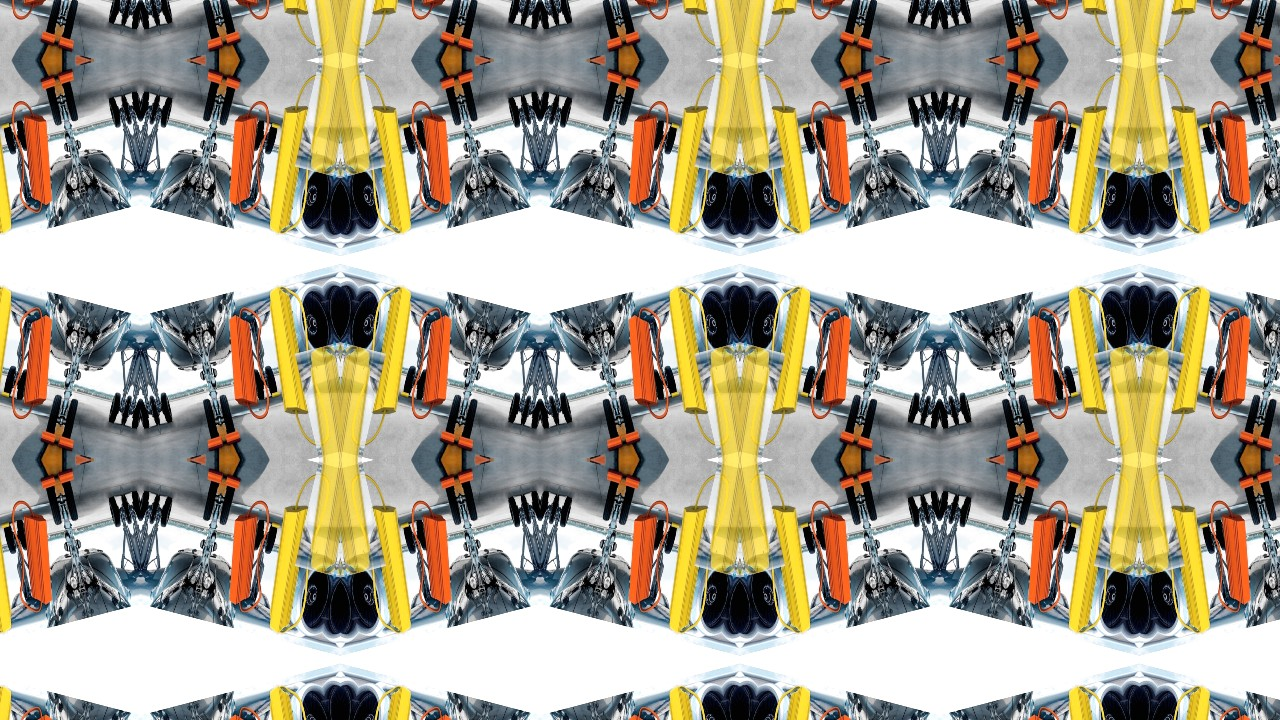chock: (257, 97, 317, 236), (363, 97, 423, 236), (657, 97, 717, 236), (763, 97, 823, 236), (1057, 97, 1117, 236), (1163, 97, 1223, 236), (257, 284, 317, 423), (363, 284, 423, 423), (657, 284, 717, 423), (763, 284, 823, 423), (1057, 284, 1117, 423), (1163, 284, 1223, 423), (257, 497, 317, 636), (363, 497, 423, 636), (657, 497, 717, 636), (763, 497, 823, 636), (1057, 497, 1117, 636), (1163, 497, 1223, 636), (12, 106, 65, 209), (215, 106, 268, 209), (412, 106, 465, 209), (615, 106, 668, 209), (812, 106, 865, 209), (1015, 106, 1068, 209), (1212, 106, 1265, 209), (12, 311, 65, 414), (215, 311, 268, 414), (412, 311, 465, 414), (615, 311, 668, 414), (812, 311, 865, 414), (1015, 311, 1068, 414), (1212, 311, 1265, 414), (12, 506, 65, 609), (215, 506, 268, 609), (412, 506, 465, 609), (615, 506, 668, 609), (812, 506, 865, 609), (1015, 506, 1068, 609), (1212, 506, 1265, 609), (294, 60, 340, 178), (340, 60, 386, 178), (694, 60, 740, 178), (740, 60, 786, 178), (1094, 60, 1140, 178), (1140, 60, 1186, 178), (294, 342, 340, 460), (340, 342, 386, 460), (694, 342, 740, 460), (740, 342, 786, 460), (1094, 342, 1140, 460), (1140, 342, 1186, 460), (294, 460, 340, 578), (340, 460, 386, 578), (694, 460, 740, 578), (740, 460, 786, 578), (1094, 460, 1140, 578), (1140, 460, 1186, 578), (0, 97, 23, 236), (0, 284, 23, 423), (0, 497, 23, 636), (294, 0, 340, 60), (340, 0, 386, 60), (694, 0, 740, 60), (740, 0, 786, 60), (1094, 0, 1140, 60), (1140, 0, 1186, 60), (257, 684, 317, 720), (363, 684, 423, 720), (657, 684, 717, 720), (763, 684, 823, 720), (1057, 684, 1117, 720), (1163, 684, 1223, 720), (257, 0, 317, 23), (363, 0, 423, 23), (657, 0, 717, 23), (763, 0, 823, 23), (1057, 0, 1117, 23), (1163, 0, 1223, 23), (0, 684, 23, 720), (12, 0, 65, 14), (215, 0, 268, 14), (412, 0, 465, 14), (615, 0, 668, 14), (812, 0, 865, 14), (1015, 0, 1068, 14), (1212, 0, 1265, 14), (0, 0, 23, 23), (12, 711, 65, 720), (215, 711, 268, 720), (412, 711, 465, 720), (615, 711, 668, 720), (812, 711, 865, 720), (1015, 711, 1068, 720), (1212, 711, 1265, 720), (55, 34, 75, 53), (205, 34, 225, 53), (455, 34, 475, 53), (605, 34, 625, 53), (855, 34, 875, 53), (1005, 34, 1025, 53), (1255, 34, 1275, 53), (55, 67, 75, 86), (205, 67, 225, 86), (455, 67, 475, 86), (605, 67, 625, 86), (855, 67, 875, 86), (1005, 67, 1025, 86), (1255, 67, 1275, 86), (55, 434, 75, 453), (205, 434, 225, 453), (455, 434, 475, 453), (605, 434, 625, 453), (855, 434, 875, 453), (1005, 434, 1025, 453), (1255, 434, 1275, 453), (55, 467, 75, 486), (205, 467, 225, 486), (455, 467, 475, 486), (605, 467, 625, 486), (855, 467, 875, 486), (1005, 467, 1025, 486), (1255, 467, 1275, 486), (39, 29, 56, 46), (224, 29, 241, 46), (439, 29, 456, 46), (624, 29, 641, 46), (839, 29, 856, 46), (1024, 29, 1041, 46), (1239, 29, 1256, 46), (39, 74, 56, 91), (224, 74, 241, 91), (439, 74, 456, 91), (624, 74, 641, 91), (839, 74, 856, 91), (1024, 74, 1041, 91), (1239, 74, 1256, 91), (39, 429, 56, 446), (224, 429, 241, 446), (439, 429, 456, 446), (624, 429, 641, 446), (839, 429, 856, 446), (1024, 429, 1041, 446), (1239, 429, 1256, 446), (39, 474, 56, 491), (224, 474, 241, 491), (439, 474, 456, 491), (624, 474, 641, 491), (839, 474, 856, 491), (1024, 474, 1041, 491), (1239, 474, 1256, 491), (71, 53, 94, 60), (186, 53, 209, 60), (471, 53, 494, 60), (586, 53, 609, 60), (871, 53, 894, 60), (986, 53, 1009, 60), (71, 60, 94, 67), (186, 60, 209, 67), (471, 60, 494, 67), (586, 60, 609, 67), (871, 60, 894, 67), (986, 60, 1009, 67), (71, 453, 94, 460), (186, 453, 209, 460), (471, 453, 494, 460), (586, 453, 609, 460), (871, 453, 894, 460), (986, 453, 1009, 460), (71, 460, 94, 467), (186, 460, 209, 467), (471, 460, 494, 467), (586, 460, 609, 467), (871, 460, 894, 467), (986, 460, 1009, 467), (0, 121, 10, 130), (270, 121, 280, 130), (400, 121, 410, 130), (670, 121, 680, 130), (800, 121, 810, 130), (1070, 121, 1080, 130), (1200, 121, 1210, 130), (0, 390, 10, 399), (270, 390, 280, 399), (400, 390, 410, 399), (670, 390, 680, 399), (800, 390, 810, 399), (1070, 390, 1080, 399), (1200, 390, 1210, 399), (0, 521, 10, 530), (270, 521, 280, 530), (400, 521, 410, 530), (670, 521, 680, 530), (800, 521, 810, 530), (1070, 521, 1080, 530), (1200, 521, 1210, 530), (1271, 53, 1280, 60), (1271, 60, 1280, 67), (1271, 453, 1280, 460), (1271, 460, 1280, 467)
wheel: (61, 81, 79, 122), (201, 81, 219, 122), (461, 81, 479, 122), (601, 81, 619, 122), (861, 81, 879, 122), (1001, 81, 1019, 122), (1261, 81, 1279, 122), (61, 398, 79, 439), (201, 398, 219, 439), (461, 398, 479, 439), (601, 398, 619, 439), (861, 398, 879, 439), (1001, 398, 1019, 439), (1261, 398, 1279, 439), (61, 481, 79, 522), (201, 481, 219, 522), (461, 481, 479, 522), (601, 481, 619, 522), (861, 481, 879, 522), (1001, 481, 1019, 522), (1261, 481, 1279, 522), (61, 0, 79, 39), (201, 0, 219, 39), (461, 0, 479, 39), (601, 0, 619, 39), (861, 0, 879, 39), (1001, 0, 1019, 39), (1261, 0, 1279, 39), (45, 86, 62, 127), (218, 86, 235, 127), (445, 86, 462, 127), (618, 86, 635, 127), (845, 86, 862, 127), (1018, 86, 1035, 127), (1245, 86, 1262, 127), (45, 393, 62, 434), (218, 393, 235, 434), (445, 393, 462, 434), (618, 393, 635, 434), (845, 393, 862, 434), (1018, 393, 1035, 434), (1245, 393, 1262, 434), (45, 486, 62, 527), (218, 486, 235, 527), (445, 486, 462, 527), (618, 486, 635, 527), (845, 486, 862, 527), (1018, 486, 1035, 527), (1245, 486, 1262, 527), (45, 0, 62, 34), (218, 0, 235, 34), (445, 0, 462, 34), (618, 0, 635, 34), (845, 0, 862, 34), (1018, 0, 1035, 34), (1245, 0, 1262, 34), (106, 96, 122, 129), (2, 124, 18, 157), (158, 96, 174, 129), (262, 124, 278, 157), (506, 96, 522, 129), (402, 124, 418, 157), (558, 96, 574, 129), (662, 124, 678, 157), (906, 96, 922, 129), (802, 124, 818, 157), (958, 96, 974, 129), (1062, 124, 1078, 157), (1202, 124, 1218, 157), (106, 391, 122, 424), (2, 363, 18, 396), (158, 391, 174, 424), (262, 363, 278, 396), (506, 391, 522, 424), (402, 363, 418, 396), (558, 391, 574, 424), (662, 363, 678, 396), (906, 391, 922, 424), (802, 363, 818, 396), (958, 391, 974, 424), (1062, 363, 1078, 396), (1202, 363, 1218, 396), (106, 496, 122, 529), (2, 524, 18, 557), (158, 496, 174, 529), (262, 524, 278, 557), (506, 496, 522, 529), (402, 524, 418, 557), (558, 496, 574, 529), (662, 524, 678, 557), (906, 496, 922, 529), (802, 524, 818, 557), (958, 496, 974, 529), (1062, 524, 1078, 557), (1202, 524, 1218, 557), (15, 120, 30, 153), (250, 120, 265, 153), (415, 120, 430, 153), (650, 120, 665, 153), (815, 120, 830, 153), (1050, 120, 1065, 153), (1215, 120, 1230, 153), (15, 367, 30, 400), (250, 367, 265, 400), (415, 367, 430, 400), (650, 367, 665, 400), (815, 367, 830, 400), (1050, 367, 1065, 400), (1215, 367, 1230, 400), (15, 520, 30, 553), (250, 520, 265, 553), (415, 520, 430, 553), (650, 520, 665, 553), (815, 520, 830, 553), (1050, 520, 1065, 553), (1215, 520, 1230, 553), (106, 0, 122, 24), (158, 0, 174, 24), (506, 0, 522, 24), (558, 0, 574, 24), (906, 0, 922, 24), (958, 0, 974, 24), (122, 94, 133, 125), (119, 95, 130, 126), (147, 94, 158, 125), (150, 95, 161, 126), (522, 94, 533, 125), (519, 95, 530, 126), (547, 94, 558, 125), (550, 95, 561, 126), (922, 94, 933, 125), (919, 95, 930, 126), (947, 94, 958, 125), (950, 95, 961, 126), (122, 395, 133, 426), (119, 394, 130, 425), (147, 395, 158, 426), (150, 394, 161, 425), (522, 395, 533, 426), (519, 394, 530, 425), (547, 395, 558, 426), (550, 394, 561, 425), (922, 395, 933, 426), (919, 394, 930, 425), (947, 395, 958, 426), (950, 394, 961, 425), (122, 494, 133, 525), (119, 495, 130, 526), (147, 494, 158, 525), (150, 495, 161, 526), (522, 494, 533, 525), (519, 495, 530, 526), (547, 494, 558, 525), (550, 495, 561, 526), (922, 494, 933, 525), (919, 495, 930, 526), (947, 494, 958, 525), (950, 495, 961, 526), (130, 90, 140, 123), (140, 90, 150, 123), (530, 90, 540, 123), (540, 90, 550, 123), (930, 90, 940, 123), (940, 90, 950, 123), (130, 397, 140, 430), (140, 397, 150, 430), (530, 397, 540, 430), (540, 397, 550, 430), (930, 397, 940, 430), (940, 397, 950, 430), (130, 490, 140, 523), (140, 490, 150, 523), (530, 490, 540, 523), (540, 490, 550, 523), (930, 490, 940, 523), (940, 490, 950, 523), (130, 0, 140, 30), (140, 0, 150, 30), (530, 0, 540, 30), (540, 0, 550, 30), (930, 0, 940, 30), (940, 0, 950, 30), (122, 0, 133, 26), (147, 0, 158, 26), (522, 0, 533, 26), (547, 0, 558, 26), (922, 0, 933, 26), (947, 0, 958, 26), (119, 0, 130, 25), (150, 0, 161, 25), (519, 0, 530, 25), (550, 0, 561, 25), (919, 0, 930, 25), (950, 0, 961, 25)
